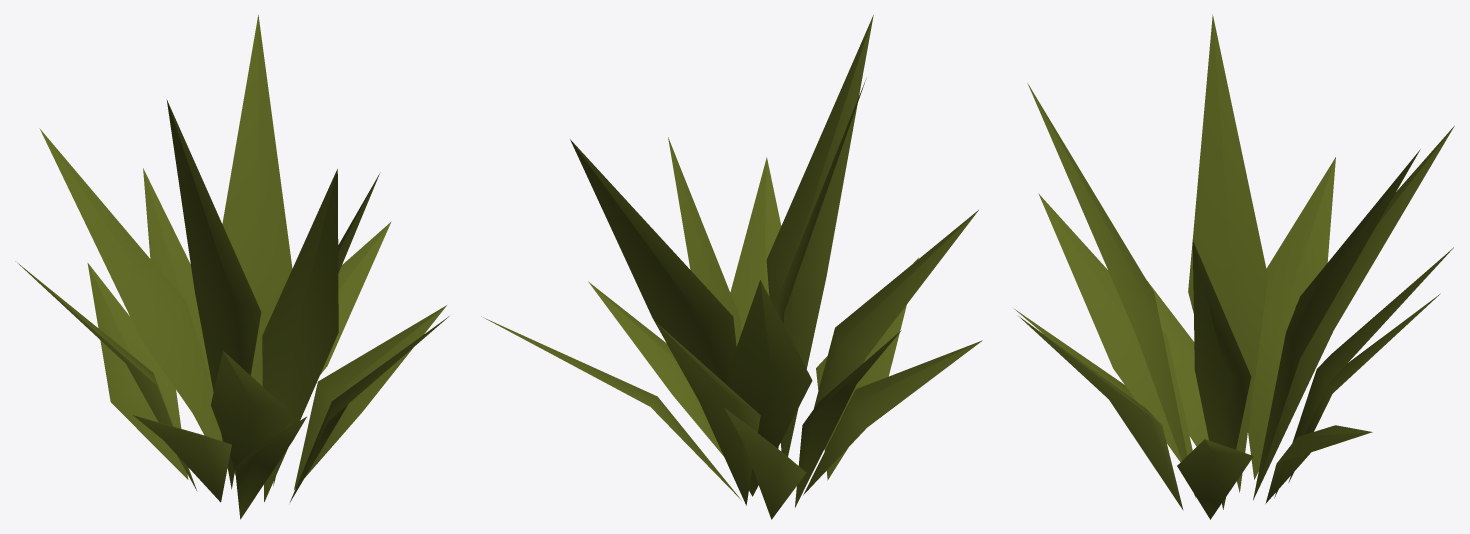
The model's file is Plant_02_LOD1.fbx.
3 views of the same model, side by side, from view 1: azimuth 30°, elevation 25°; view 2: azimuth 150°, elevation 25°; view 3: azimuth 270°, elevation 25° (orthographic). The views are drawn at different scales.
Visible parts, largest first — view 1: polySurface26; view 2: polySurface26; view 3: polySurface26.
Boxes of the visible parts, box(x1,y1,x2,y2) form: polySurface26: box(15, 15, 449, 519); polySurface26: box(481, 15, 982, 519); polySurface26: box(1014, 14, 1454, 519).
Size of the model in its own units: 139 by 142 by 129.
